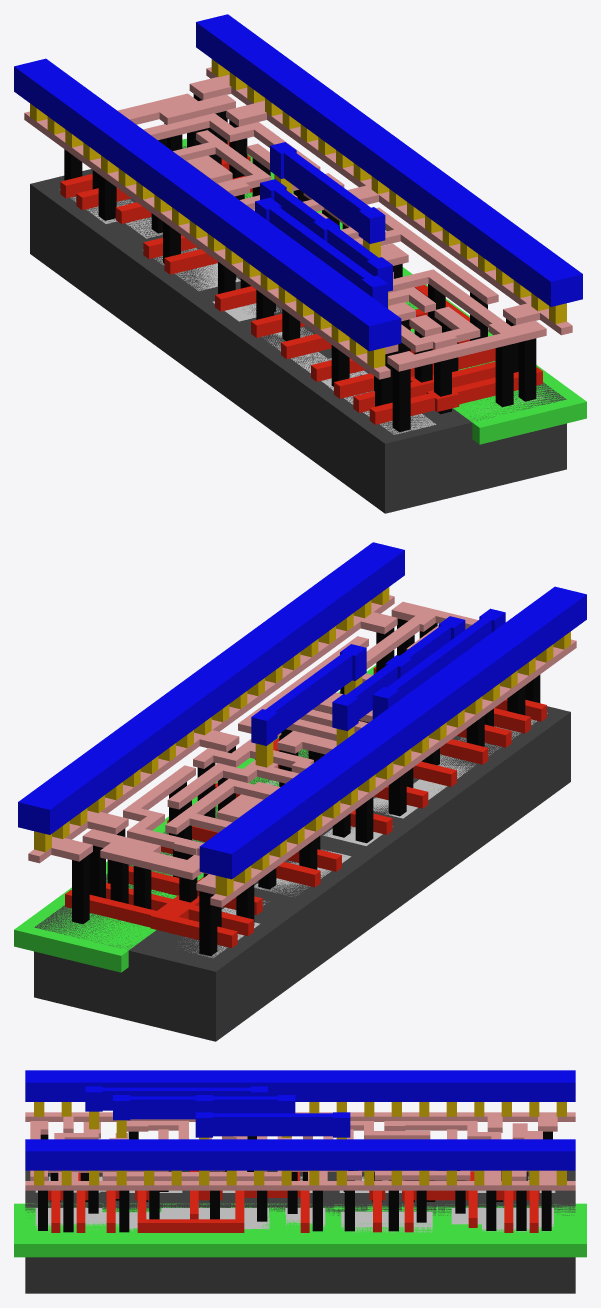
File: sky130_fd_sc_hd__xor3_2.obj
3 renders of one model, top to bottom at view 1: azimuth 30°, elevation 25°; view 2: azimuth 150°, elevation 25°; view 3: azimuth 270°, elevation 25°, orthographic. The views are drawn at different scales.
Visible parts, largest first — view 1: metal1, subs, li, licon, poly, mcon, nwell, diff; view 2: metal1, subs, li, licon, poly, mcon, nwell, diff; view 3: metal1, subs, nwell, li, poly, licon, mcon, tap, diff.
Boxes of the visible parts, x1,y1,x2,y2 form: metal1: (14,14,582,351); subs: (30,146,566,513); li: (24,67,572,379); licon: (64,94,536,432); poly: (60,141,542,424); mcon: (30,59,566,368); nwell: (182,138,586,444); diff: (59,189,436,434); metal1: (18,542,586,879); subs: (34,706,570,1041); li: (28,595,576,907); licon: (72,618,540,956); poly: (65,666,546,947); mcon: (34,587,570,896); nwell: (14,665,376,972); diff: (185,713,547,957); metal1: (25,1070,575,1170); subs: (25,1170,575,1293); nwell: (14,1203,586,1257); li: (25,1112,575,1190); poly: (48,1170,539,1232); licon: (38,1131,552,1232); mcon: (34,1102,566,1185); tap: (35,1208,553,1232); diff: (35,1176,555,1192).
Size of the model in its own units: 3.2 by 2.74 by 9.58.
